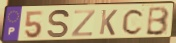5: (24, 10, 45, 40)
B: (144, 6, 171, 37)
C: (121, 8, 146, 36)
K: (98, 9, 119, 37)
S: (47, 9, 71, 40)
Z: (70, 9, 97, 38)
